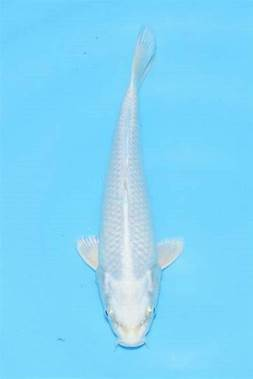white: (75, 26, 185, 348)
